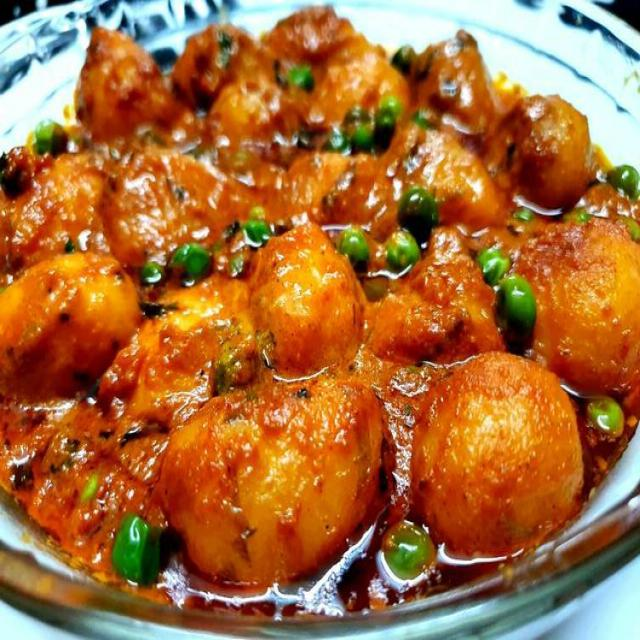Aloo Matar: (0, 37, 640, 597)
